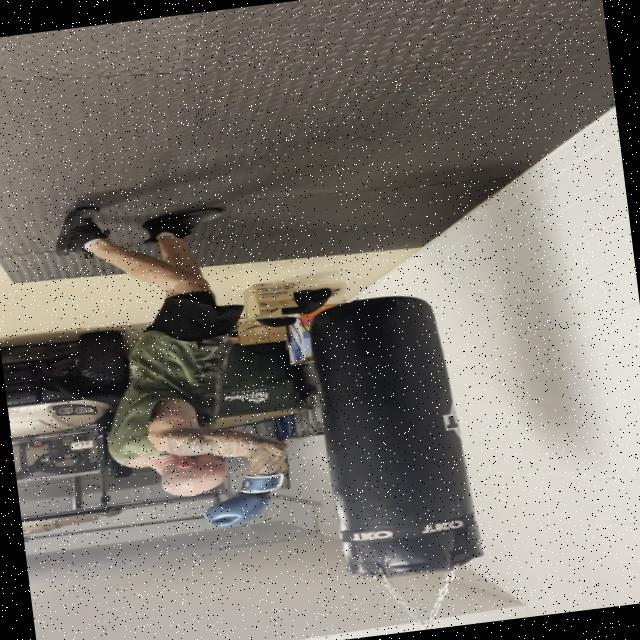bag: (308, 284, 477, 588)
uppercut: (112, 389, 314, 544)
